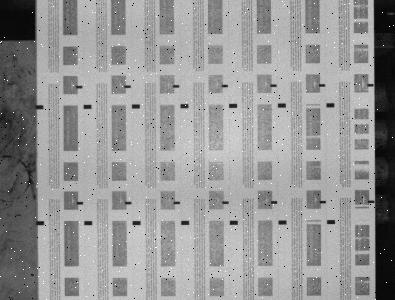backgroundclutter: (31, 273, 34, 276)
qblock: (83, 104, 92, 109), (181, 220, 189, 225), (230, 220, 238, 225), (132, 104, 140, 109), (229, 103, 237, 108), (132, 221, 141, 225), (278, 220, 287, 224), (180, 104, 189, 108), (36, 221, 44, 225), (84, 221, 92, 225), (278, 103, 286, 107), (35, 105, 43, 109), (327, 220, 335, 224), (326, 103, 334, 107)
smallqblock: (77, 201, 83, 205), (125, 201, 132, 204), (271, 201, 278, 204), (222, 201, 229, 204), (76, 85, 83, 88), (124, 85, 131, 88), (368, 200, 375, 203), (173, 85, 180, 88), (270, 84, 277, 87), (174, 201, 180, 204), (222, 84, 228, 87), (320, 200, 326, 203), (319, 84, 325, 87), (368, 84, 374, 87)
